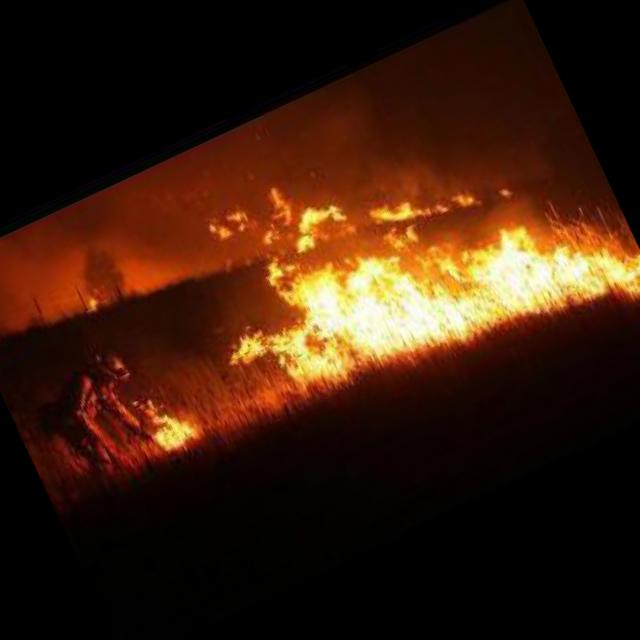fire: (187, 57, 640, 449), (120, 379, 197, 464)
